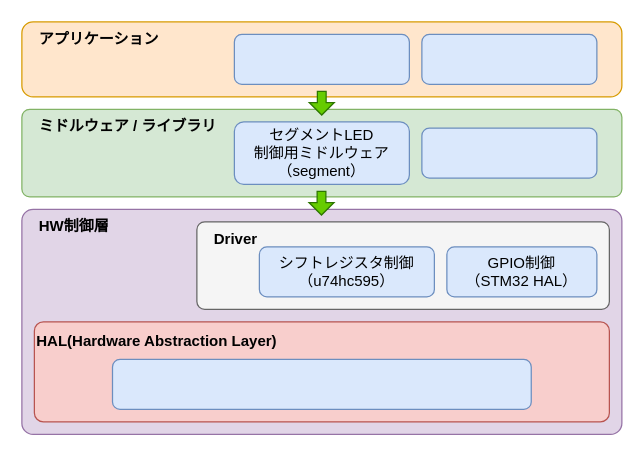
This 644x456 diagram has some shape labels left out. The shapes that lost their labels are listed below. From the top down, each one's centre as x and y in pixels, then its label:
At point 321,58: "表示アプリ （display）".
At point 509,58: "ユーザーIF （cmd）".
At point 509,152: "CLIライブラリ （CLI）".
At point 321,383: "STM32周辺機能への抽象化API （GPIO/TIM/UART等）".
